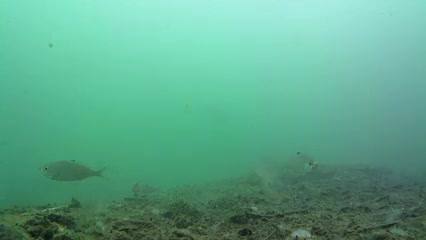smallfish: (37, 153, 115, 189)
